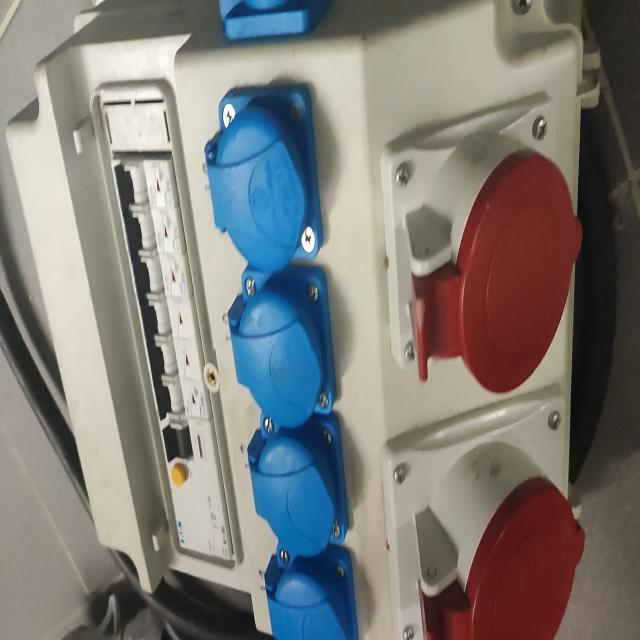400v socket: (380, 89, 580, 392), (383, 383, 586, 640)
house plug covered: (205, 85, 324, 269), (229, 266, 339, 430), (248, 413, 349, 557), (265, 538, 360, 640)
